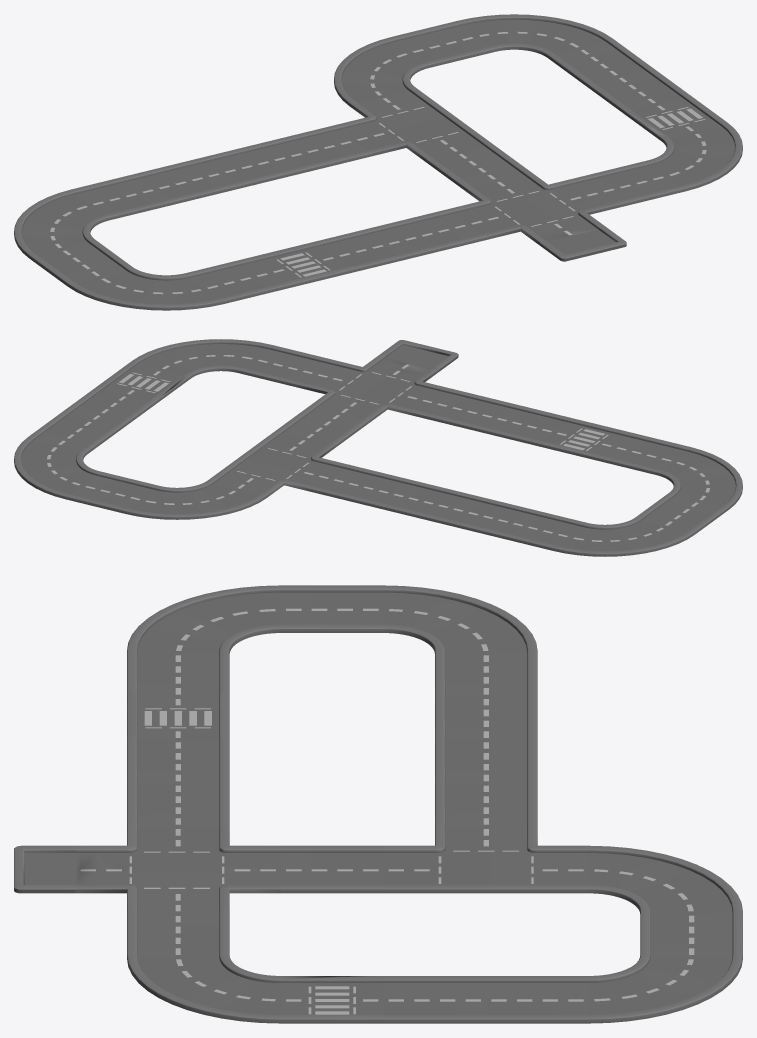
File: road.obj
The picture shows the model from 3 angles, top to bottom: view 1: azimuth 30°, elevation 25°; view 2: azimuth 150°, elevation 25°; view 3: azimuth 270°, elevation 25°; orthographic projection. The views are drawn at different scales.
Parts seen in each view (by area): view 1: Example_Road_Material_0; view 2: Example_Road_Material_0; view 3: Example_Road_Material_0.
Part boxes in pixels (x1,y1,x2,y2): Example_Road_Material_0: (14, 14, 742, 310); Example_Road_Material_0: (14, 339, 742, 556); Example_Road_Material_0: (14, 585, 742, 1023).
Size of the model in its own units: 20 by 0.1005 by 14.2.
1 material, 1 textured.
